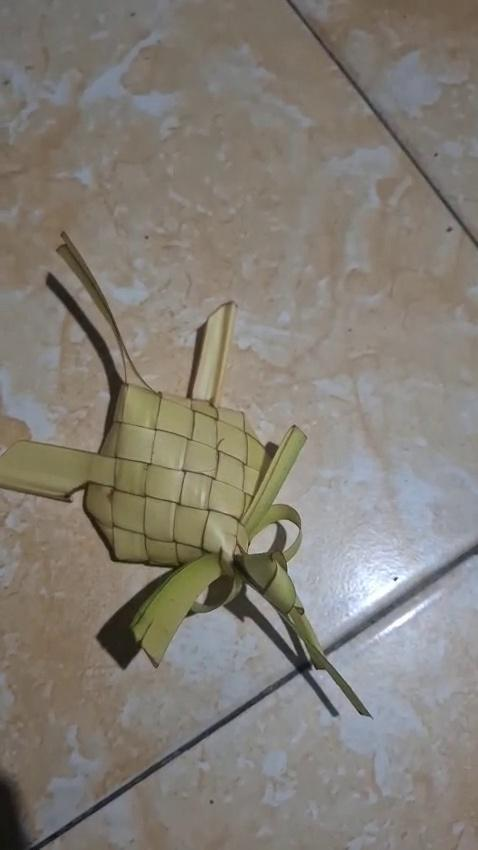Tipat Dampulan: (6, 216, 379, 722)
